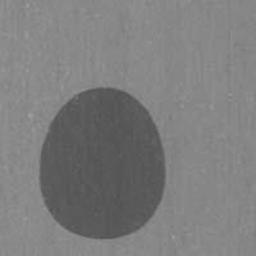Oil spot: (38, 86, 168, 239)
